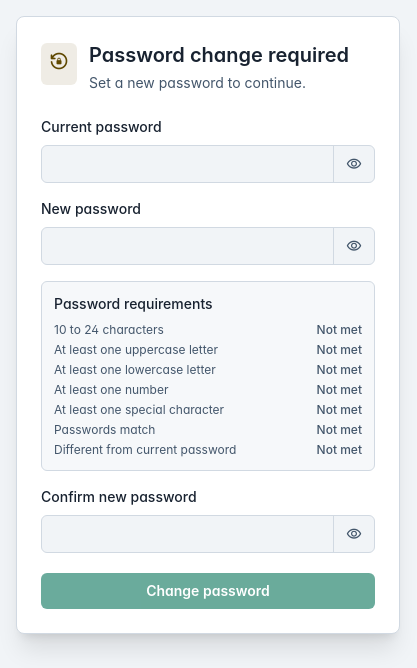
Test: AuthGate › enables password change for a valid new password and matching confirmation
This screenshot has width=417, height=668.
Check: the heading "Password change required" is shown, box [89, 41, 349, 69]
Step 1. Type "old-password" into the password field labelled "Current password" → point(188, 164), box [42, 146, 333, 182]
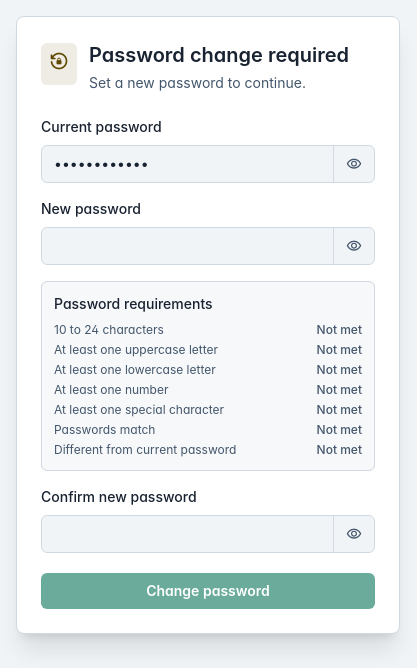
Step 2. Type "NewPass123!" into the password field labelled "New password" → point(188, 246), box [42, 228, 333, 264]
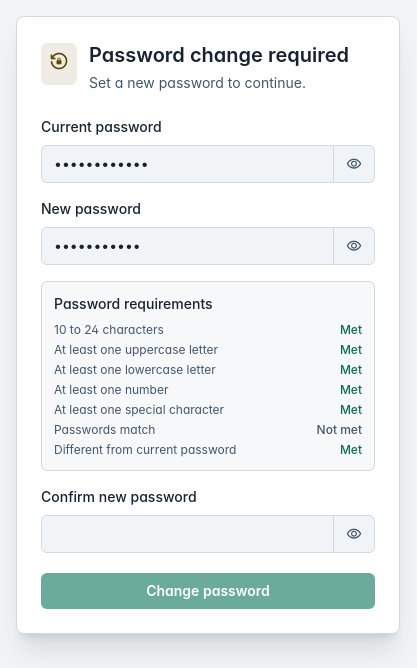
Step 3. Type "NewPass123!" into the password field labelled "Confirm new password" → point(188, 534), box [42, 516, 333, 552]
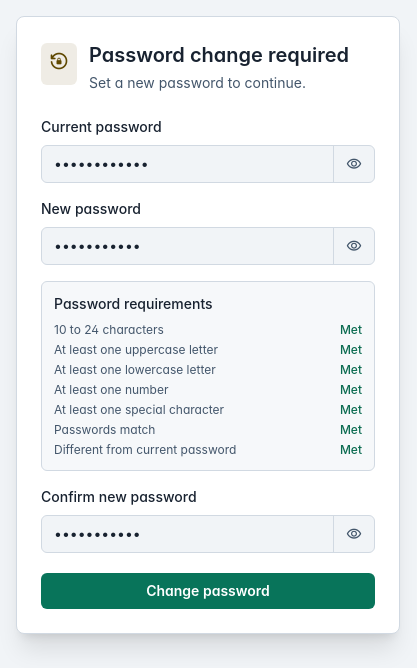
Check: the button "Change password" is enabled, box [41, 573, 375, 609]
